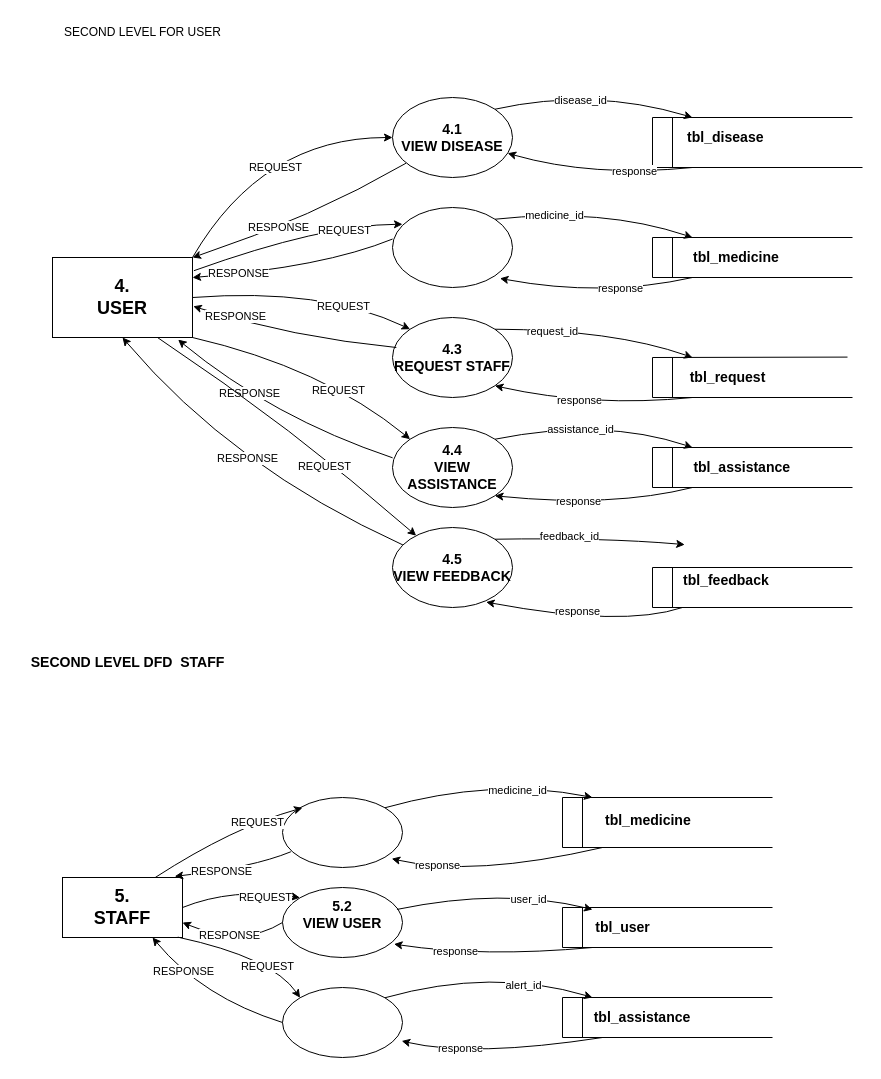
Some shapes in this 881 by 1079 pixel diagram are drawn without their labels. Each missing label, with the centre of its shape:
"4.2 VIEW MEDICINE" goes at point 452,247.
"5.1 VIEW MEDICINE" goes at point 342,832.
"5.3 GIVE ASSISTANCE" goes at point 342,1022.
